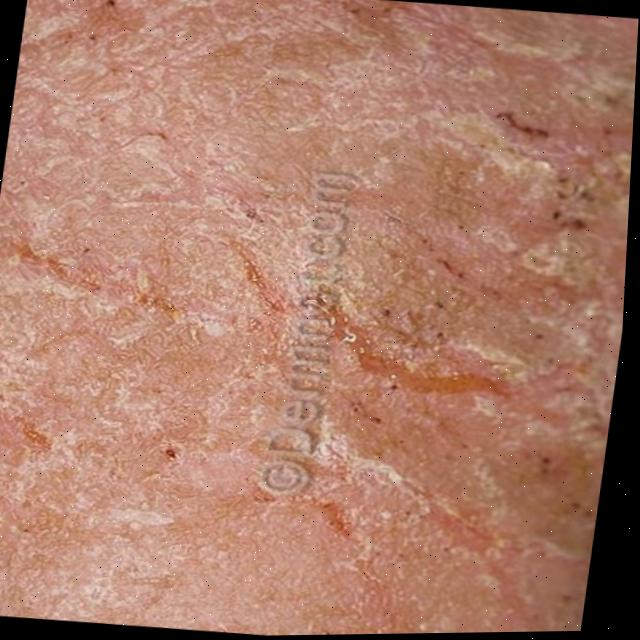Eczema: (68, 0, 640, 531)
